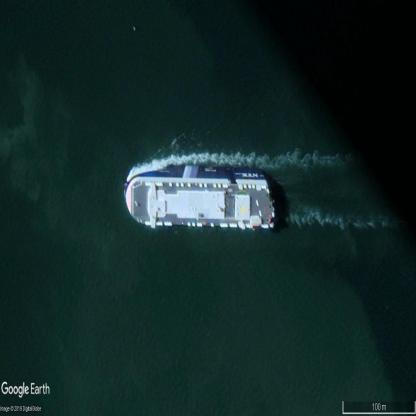ship: (126, 166, 276, 231)
